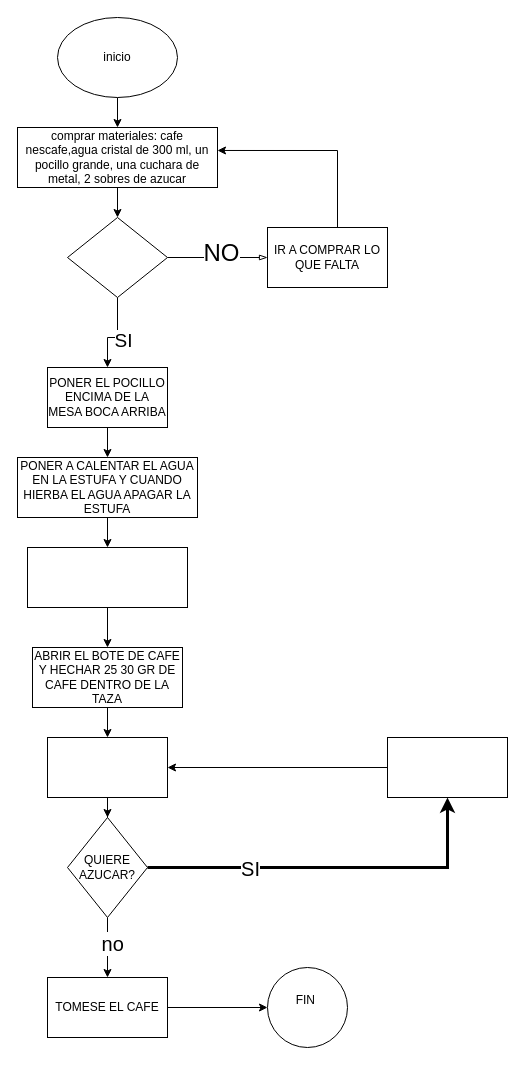
This 525x1065 diagram has some shape labels left out. Each missing label, with the centre of its shape:
HECHARLE 2 SOBRES DE AZUCAR: the point at 447,767
REVOLVER CON LA CUCHARA 1 MNUTO: the point at 107,767
tiene todo el material?: the point at 117,257
VERTER LOS 300 ML DE AGUA CALIENTE EN EL POCILLO: the point at 107,577
